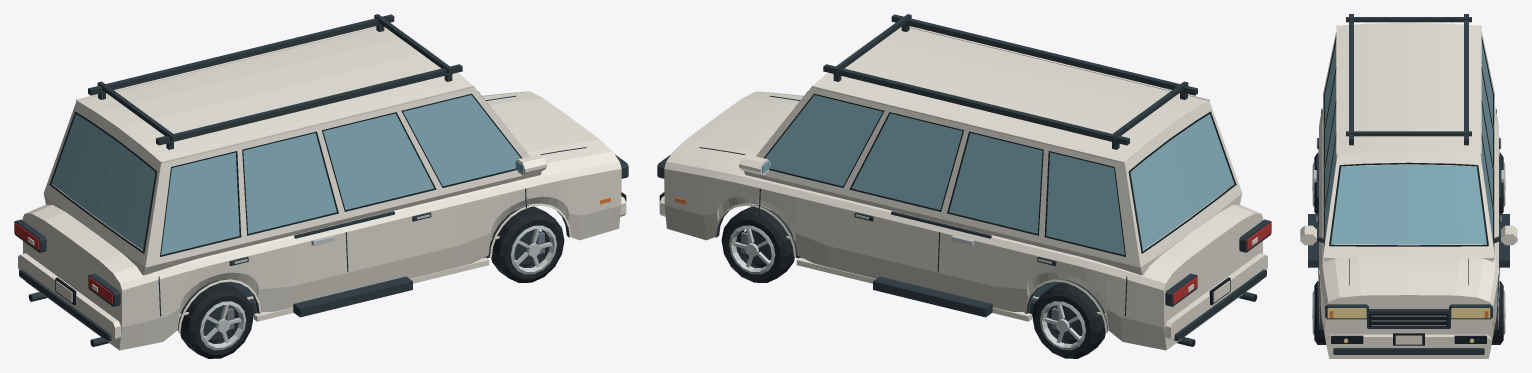
The model's file is b03_fullsize_passenger_van.glb.
3 views of the same model, side by side, from view 1: azimuth 30°, elevation 25°; view 2: azimuth 150°, elevation 25°; view 3: azimuth 270°, elevation 25° (orthographic). The views are drawn at different scales.
Parts seen in each view (by area): view 1: b03_fullsize_passenger_van; view 2: b03_fullsize_passenger_van; view 3: b03_fullsize_passenger_van.
Part boxes in pixels (x1=…): b03_fullsize_passenger_van: x1=14, y1=14, x2=628, y2=358; b03_fullsize_passenger_van: x1=657, y1=14, x2=1271, y2=358; b03_fullsize_passenger_van: x1=1300, y1=14, x2=1517, y2=358.
Bounding box in the file's own units: 5.76 × 2.3 × 2.47.
